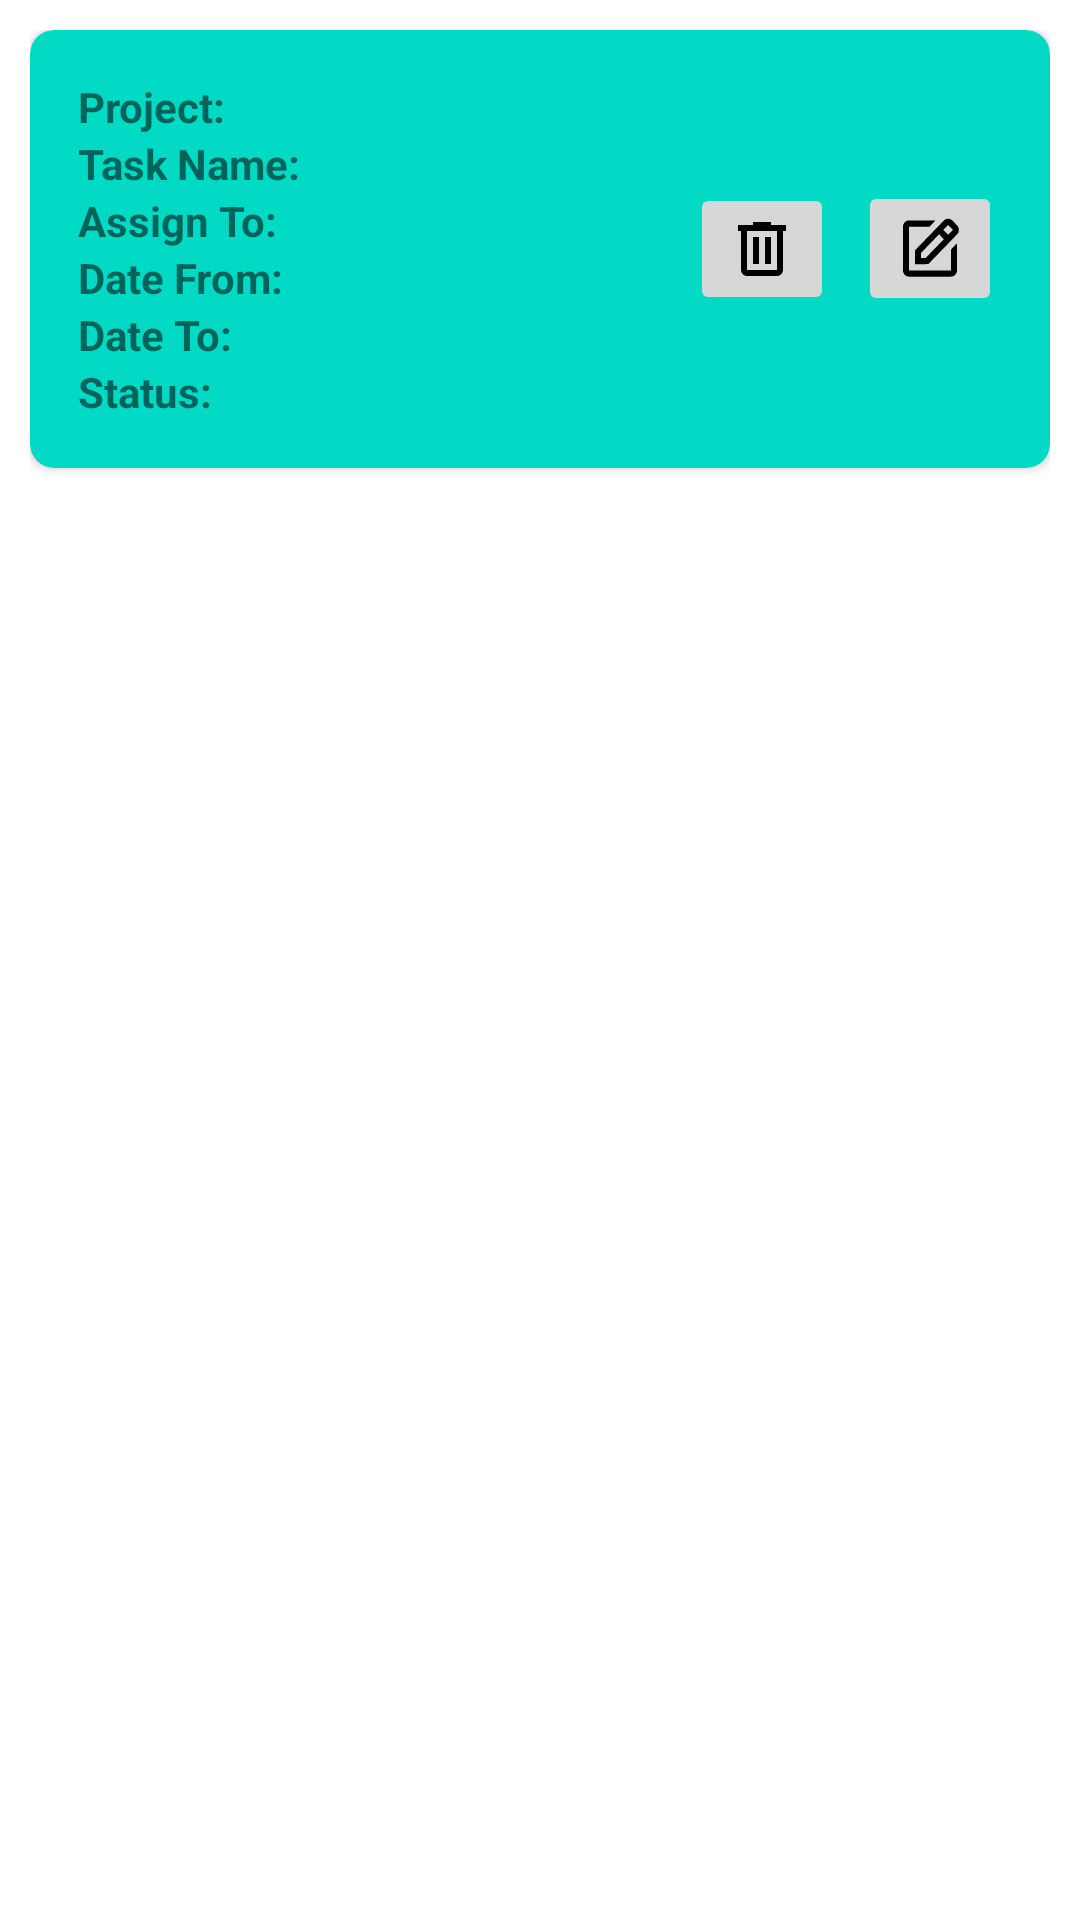

Point at icon controls on the screen. Image size 1080px×1920px, points as (x,y).
delete: (762,249)
edit: (930,248)
